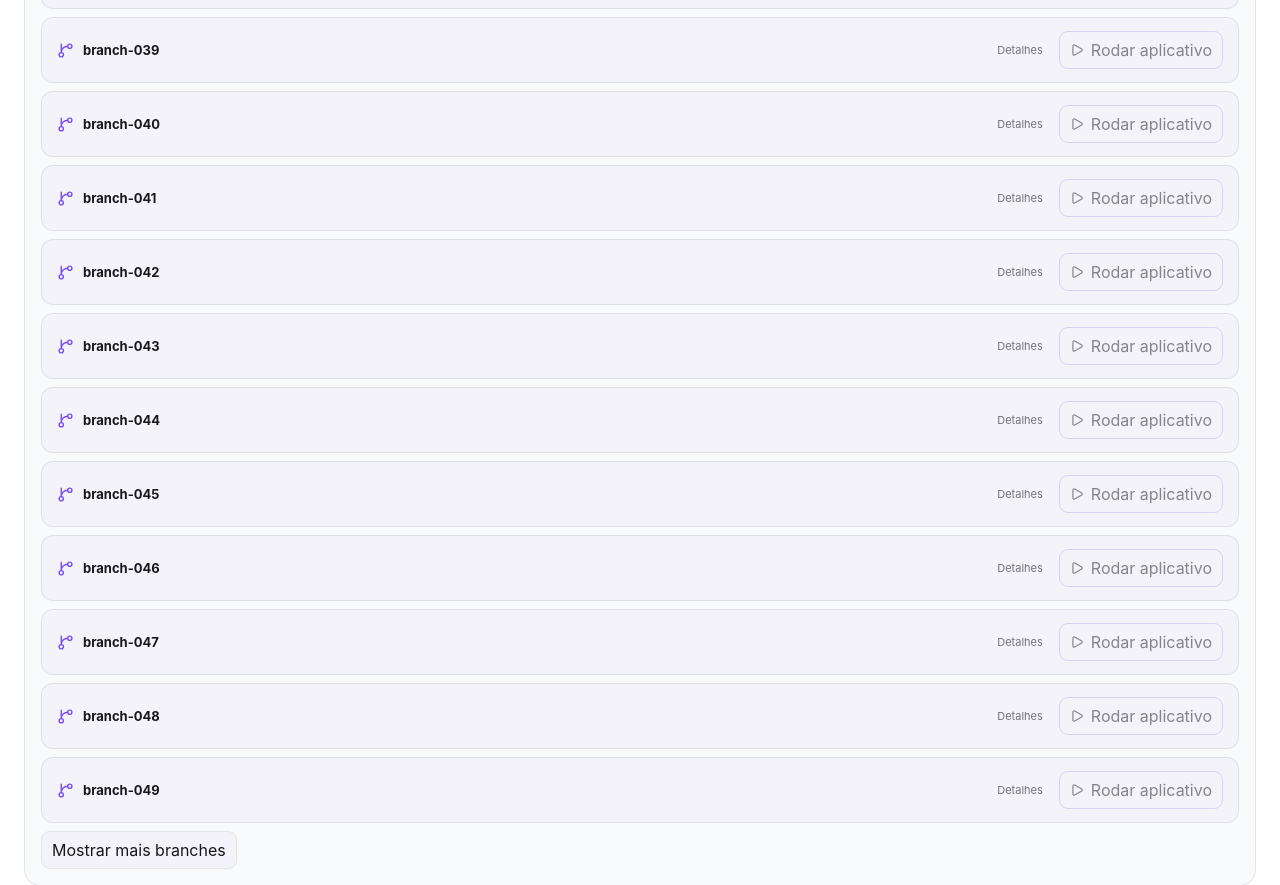
it: pages 101 branches, filters real records and groups unknown dates stably
(page scrolled)
Expected: the text "branch-049" is shown, x1=83 y1=782 x2=160 y2=798
Expected: the text "branch-100" is not shown
Click the button "Mostrar mais branches": (139, 850) x1=41 y1=831 x2=237 y2=869
(page scrolled)
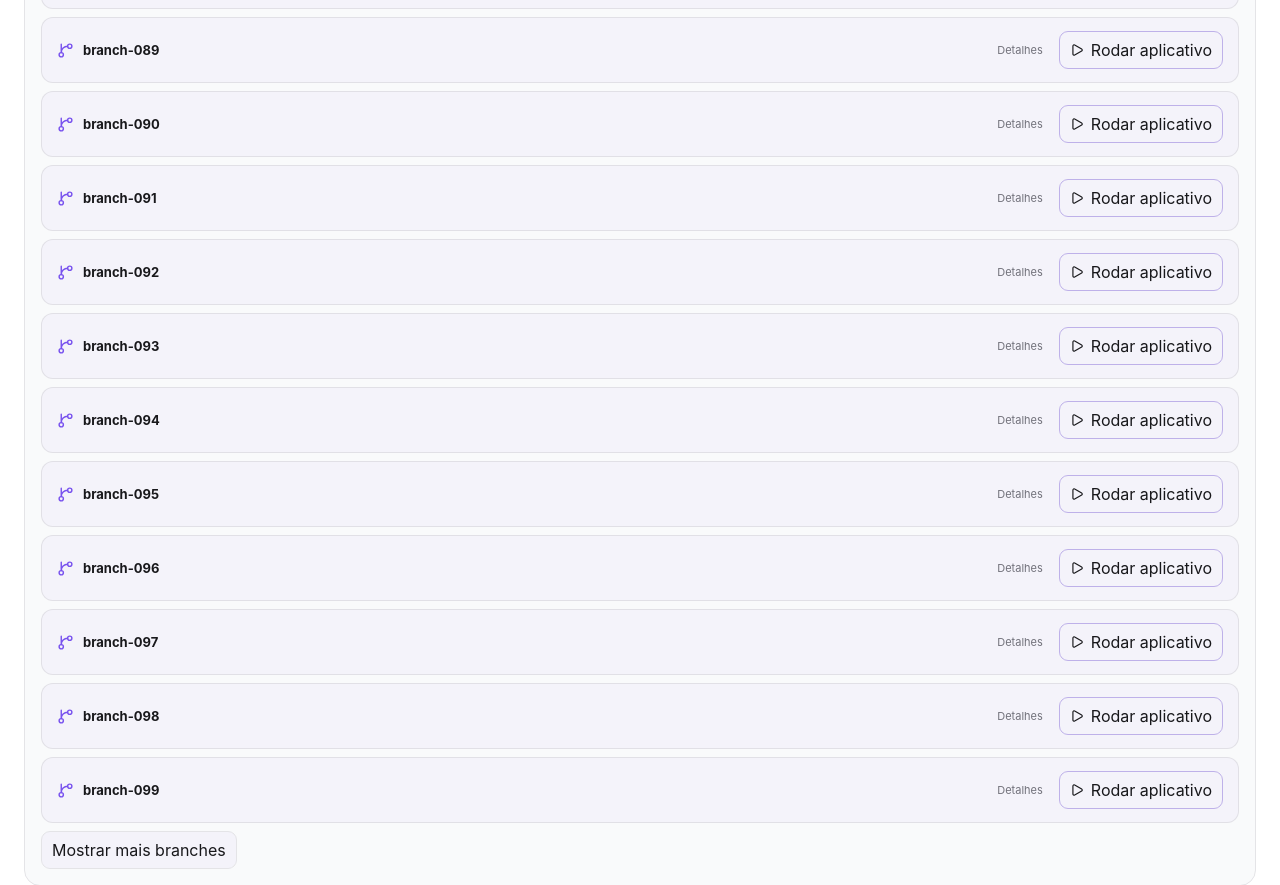
Click the button "Mostrar mais branches": (139, 850) x1=41 y1=831 x2=237 y2=869
(page scrolled)
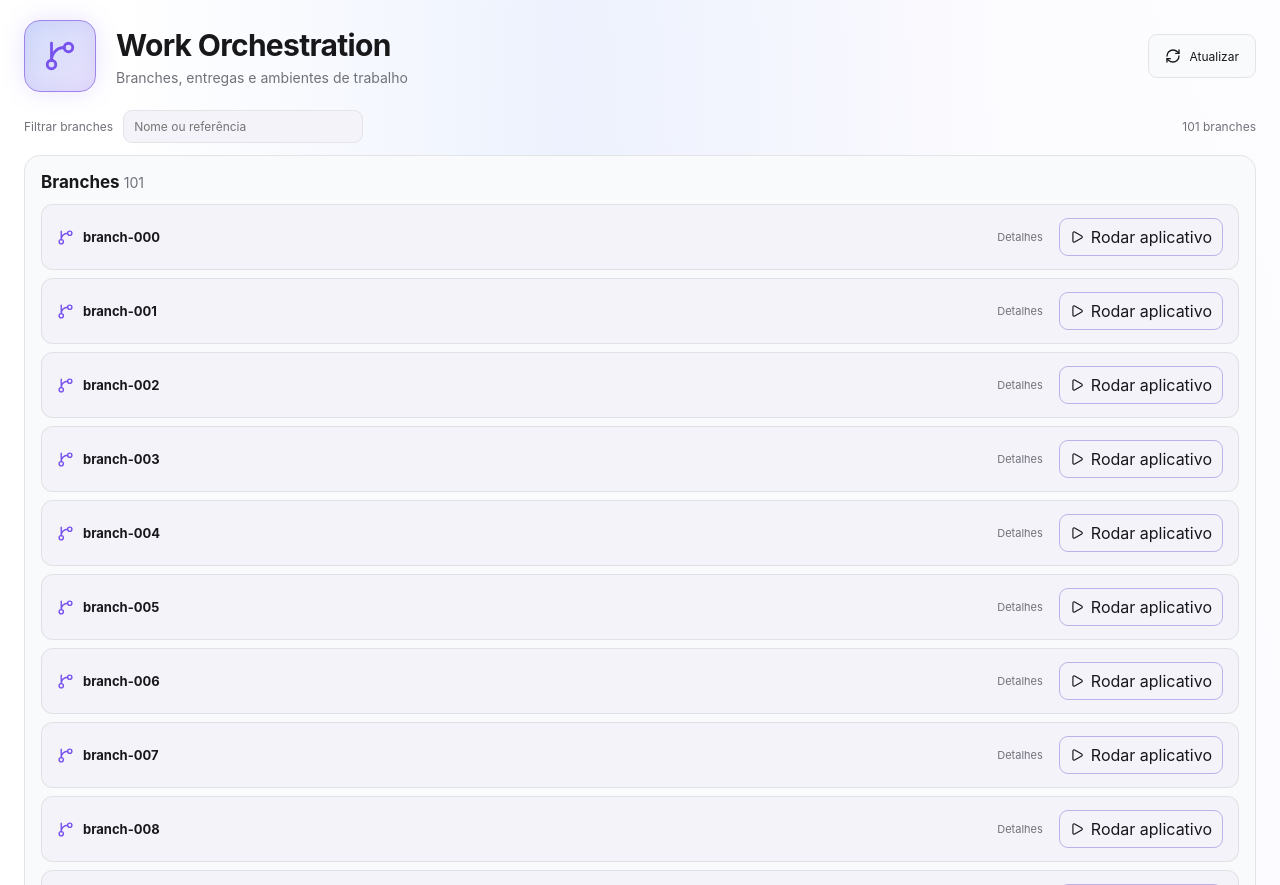
In the field with placeholder "Nome ou referência": (243, 126) x1=123 y1=110 x2=363 y2=143, type "branch-100"
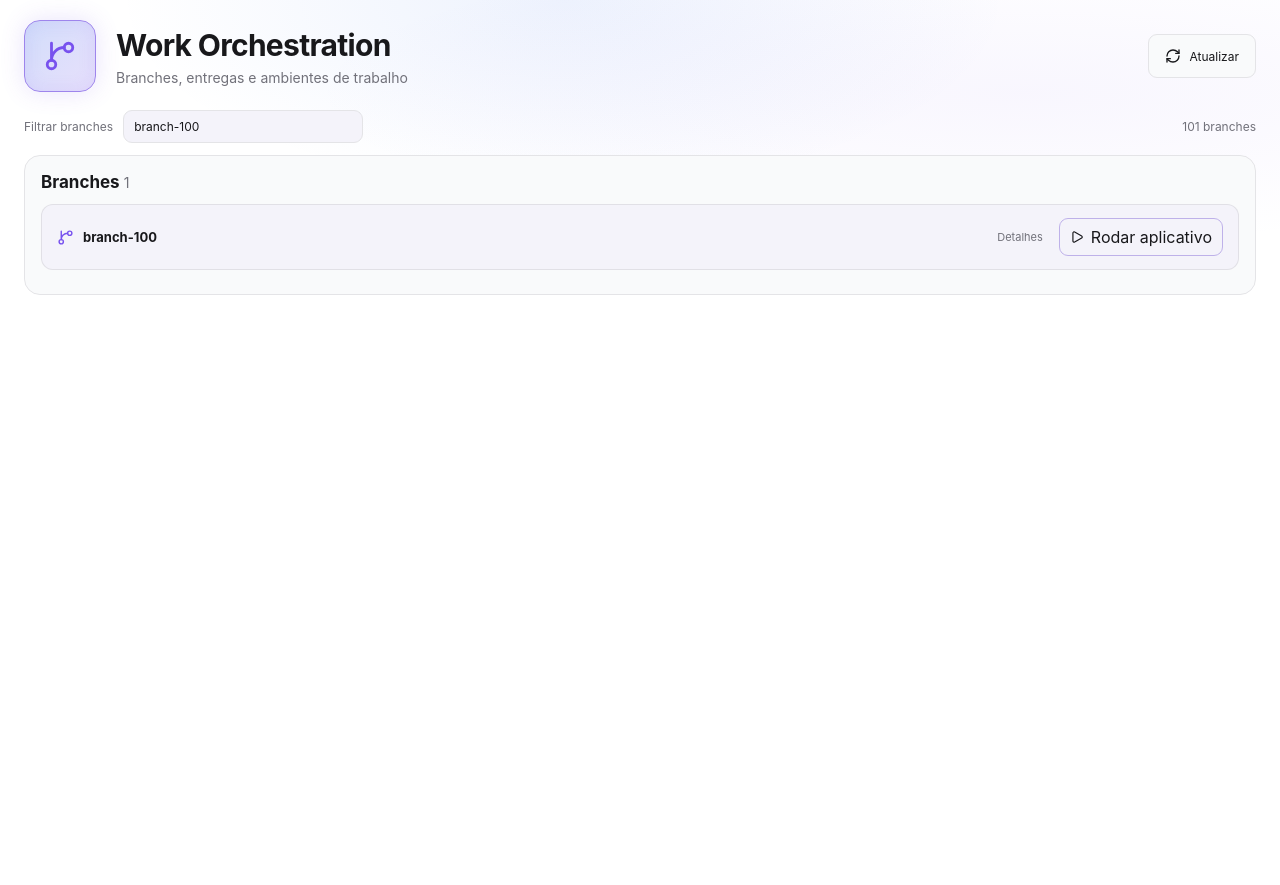
Now the button "branch-000" is gone
